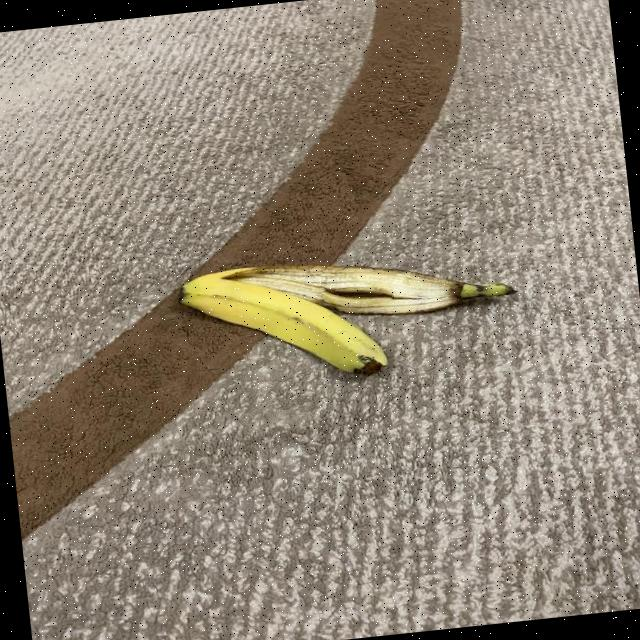banana-peel: (175, 252, 389, 394), (218, 237, 517, 334)
